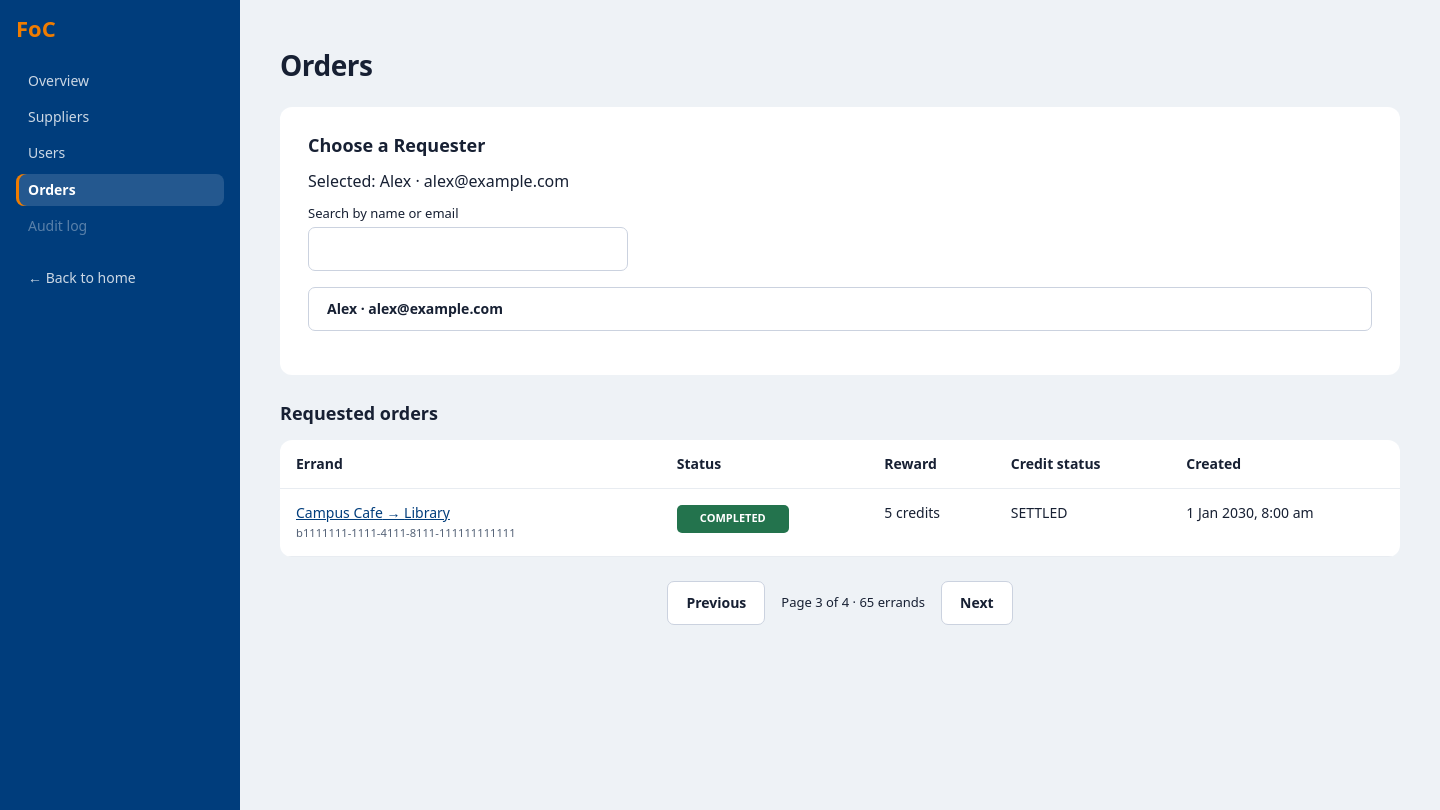
it: preserves the requester and non-first page through the real admin list, detail and return routes
Expected: the text "Page 3 of 4 · 65 errands" is shown, x1=781 y1=595 x2=925 y2=610
Step 1. Click the link "Campus Cafe → Library" → x=339, y=512, box x1=296 y1=503 x2=450 y2=522
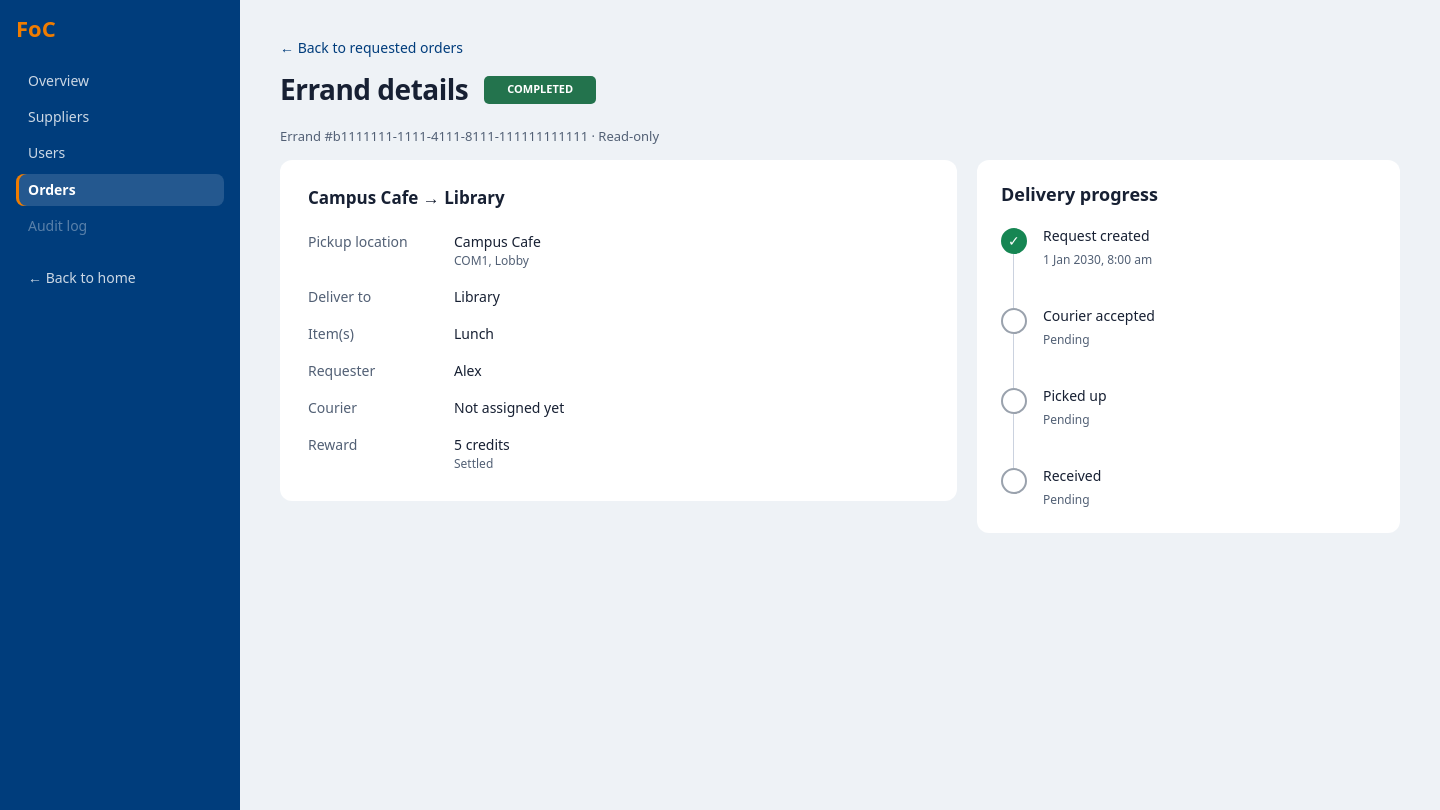
Expected: the heading "Errand details" is shown, x1=280 y1=72 x2=468 y2=107
Step 2. Click the link "← Back to requested orders" → x=372, y=48, box x1=280 y1=40 x2=463 y2=56
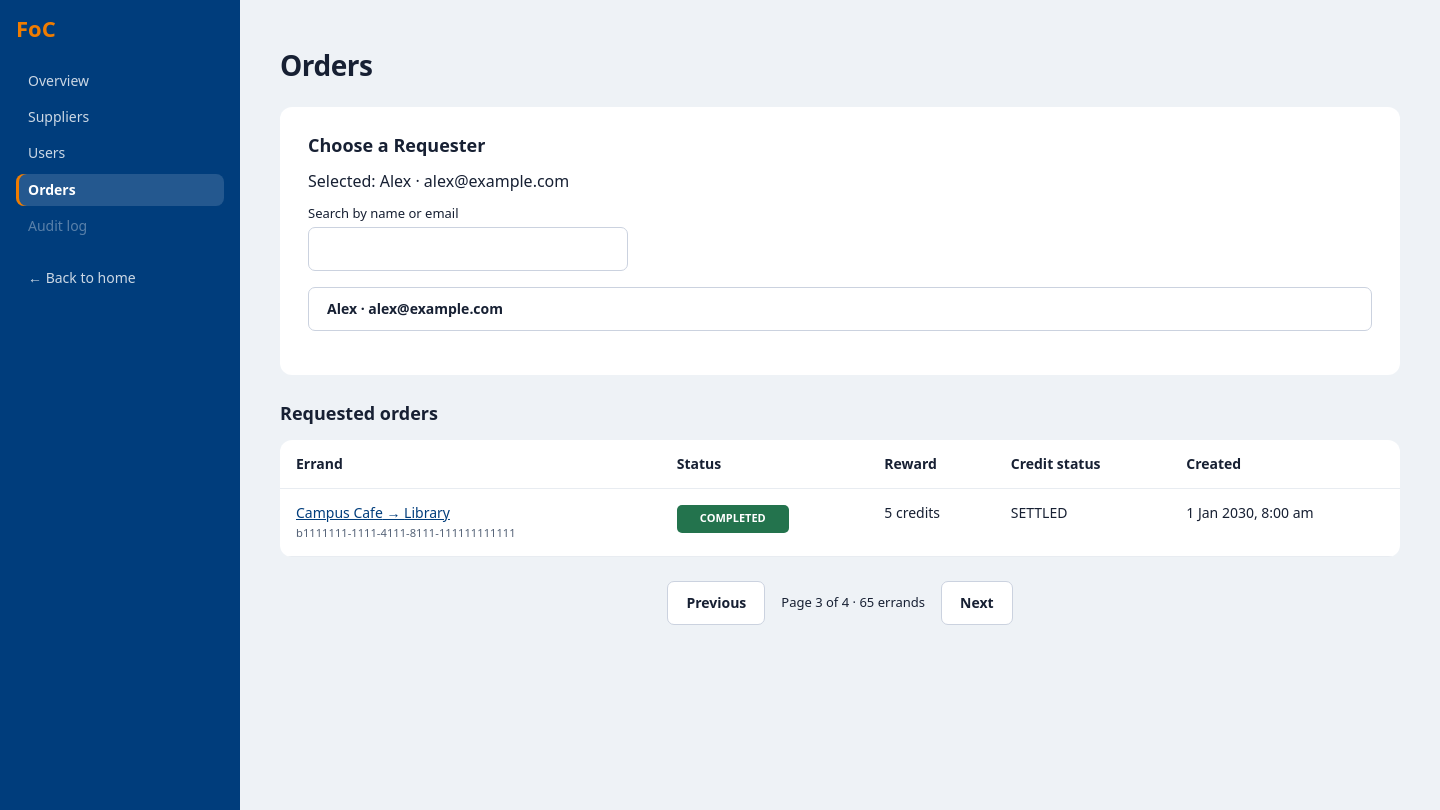
Expected: the heading "Orders" is shown, x1=280 y1=46 x2=372 y2=84
Expected: the text "Page 3 of 4 · 65 errands" is shown, x1=781 y1=595 x2=925 y2=610
